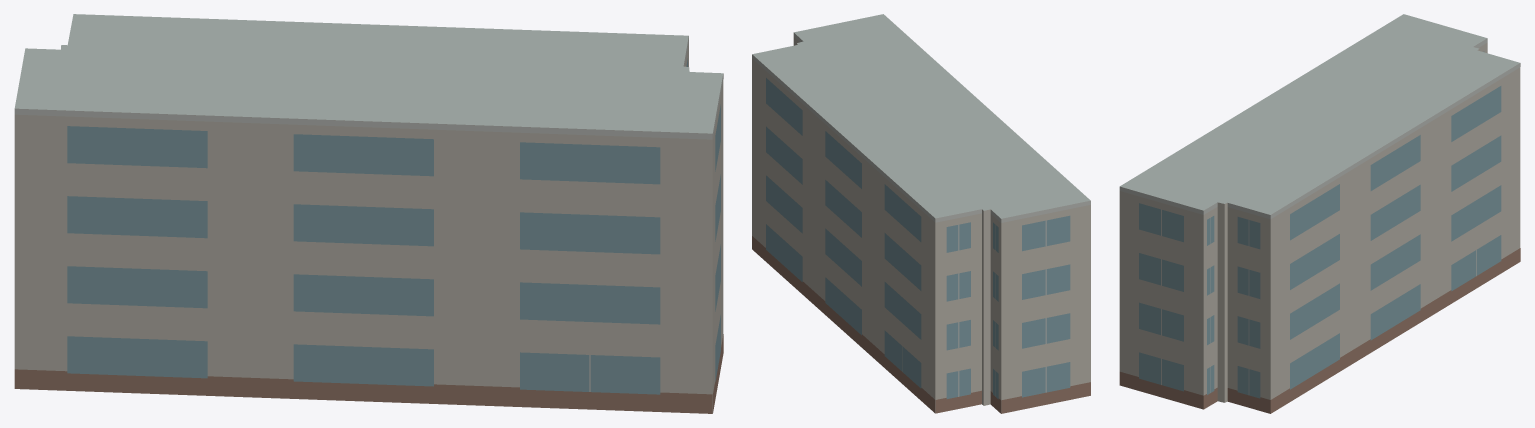
File: survey-upis-32813729.glb
3 views of the same model, side by side, from view 1: azimuth 30°, elevation 25°; view 2: azimuth 150°, elevation 25°; view 3: azimuth 270°, elevation 25° (orthographic). The views are drawn at different scales.
Parts seen in each view (by area): view 1: survey-upis-32813729.tmp; view 2: survey-upis-32813729.tmp; view 3: survey-upis-32813729.tmp.
Boxes of the visible parts, box(x1,y1,x2,y2) form: survey-upis-32813729.tmp: box(14, 14, 723, 413); survey-upis-32813729.tmp: box(752, 14, 1090, 413); survey-upis-32813729.tmp: box(1119, 14, 1520, 413).
Bounding box in the file's own units: 24.5 × 11.3 × 20.65.
